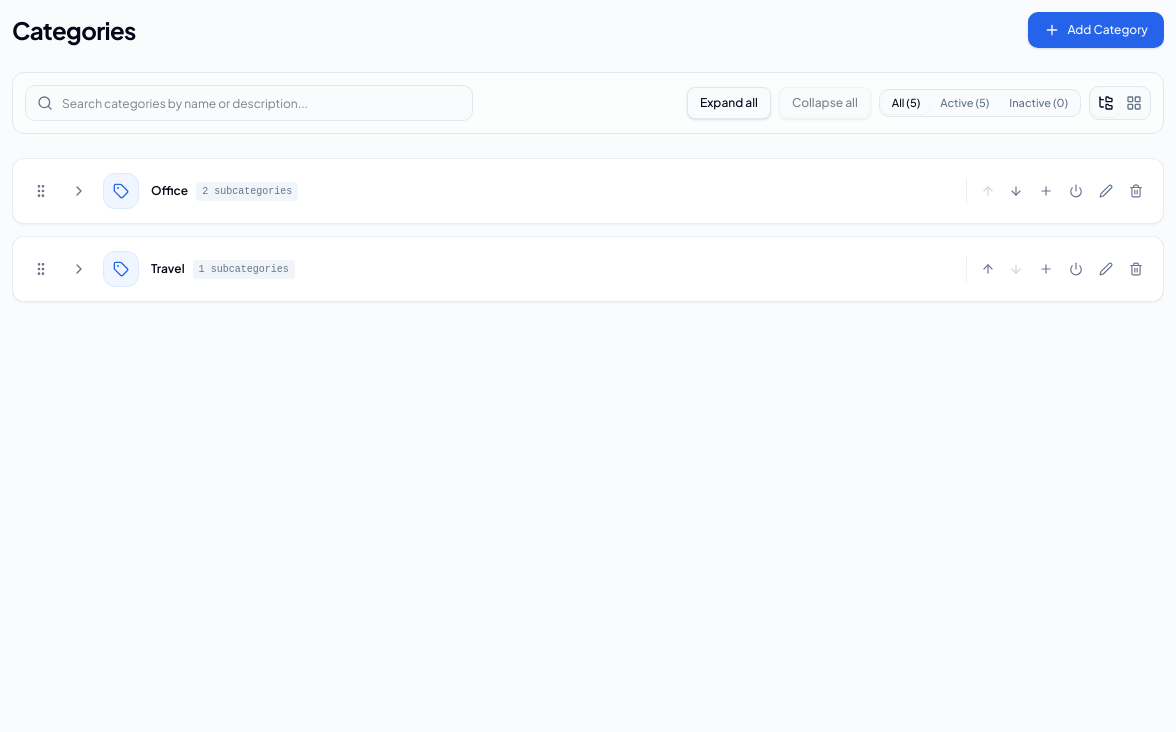
category ordering › shows compact floating success feedback outside the page flow
Click the button named "Move Office down": x=1016, y=191 [1003,178,1029,204]
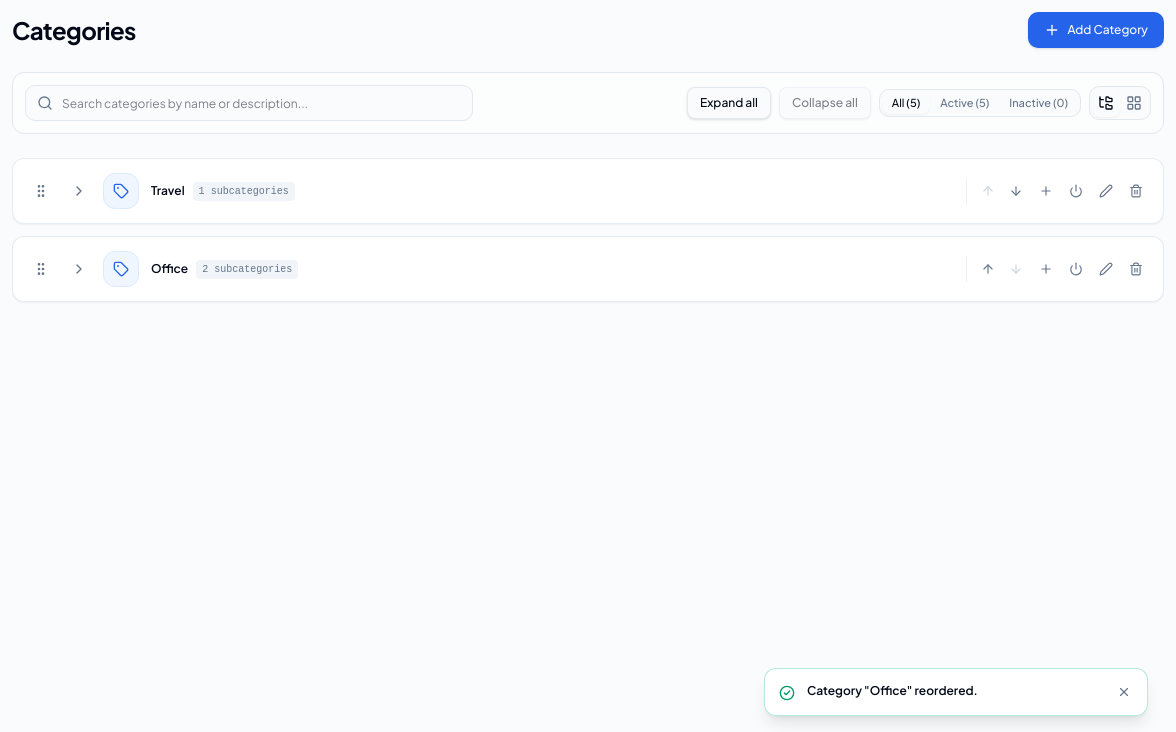
Result: the message reads "Category \"Office\" reordered." at [807,683,978,698]
Click the button named "Dismiss notification": x=1124, y=692 [1115,683,1133,701]
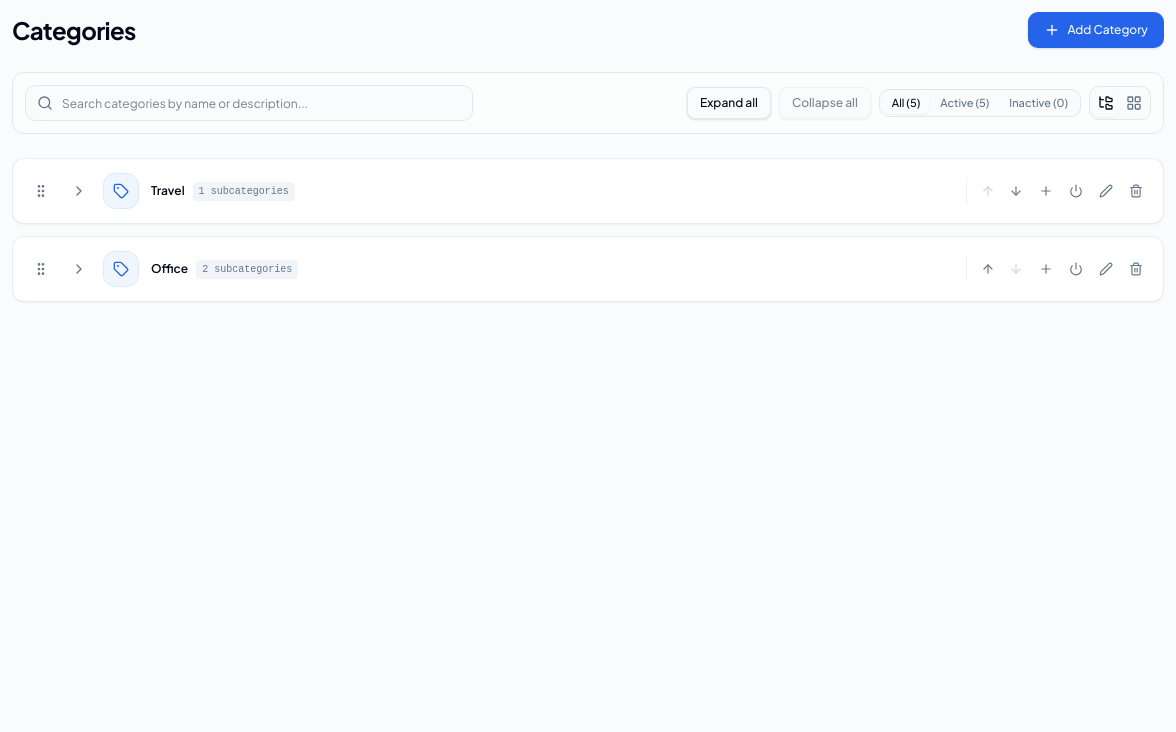
Result: the message "Category \"Office\" reordered." is gone
